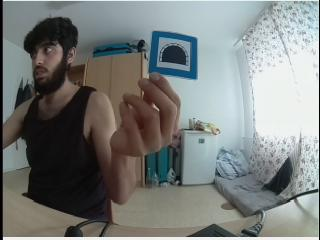tunnel: (150, 34, 198, 78)
